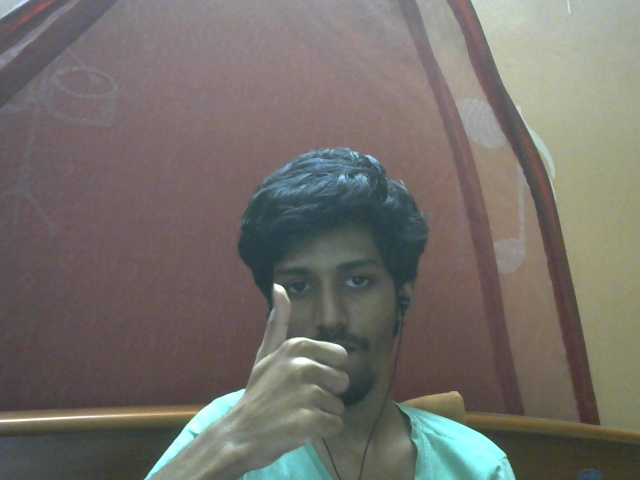ThumbsUp: (247, 283, 351, 474)
